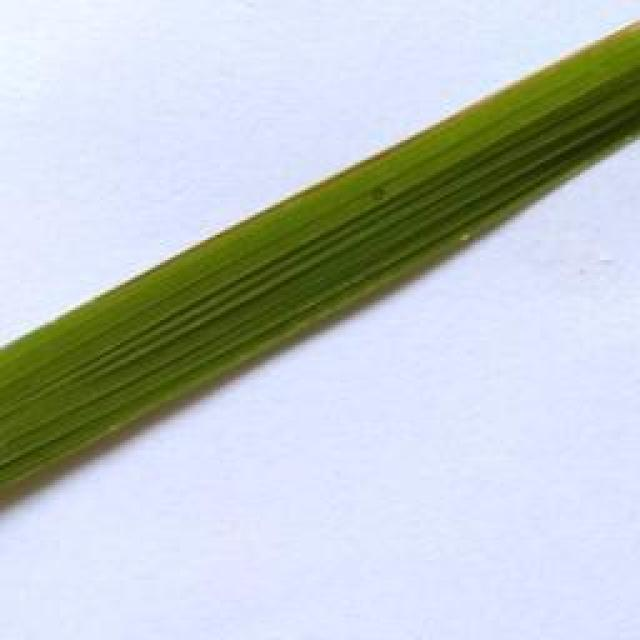Healthy-Plant: (0, 16, 640, 511)
